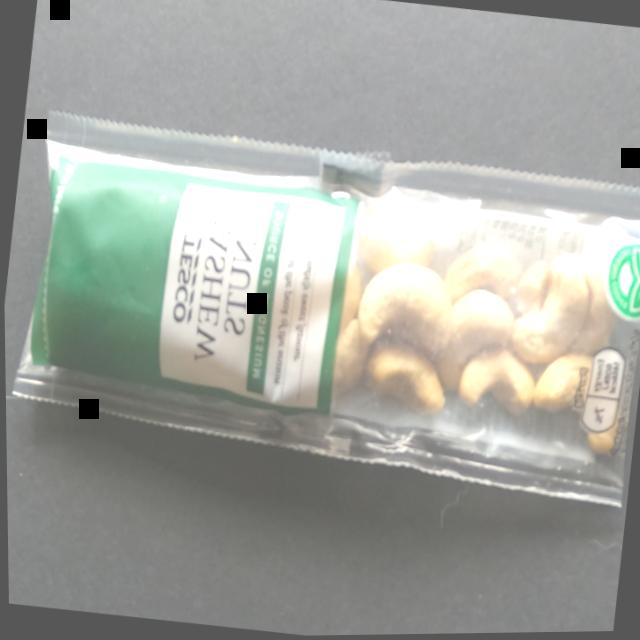Cashewnut: (1, 97, 640, 528)
